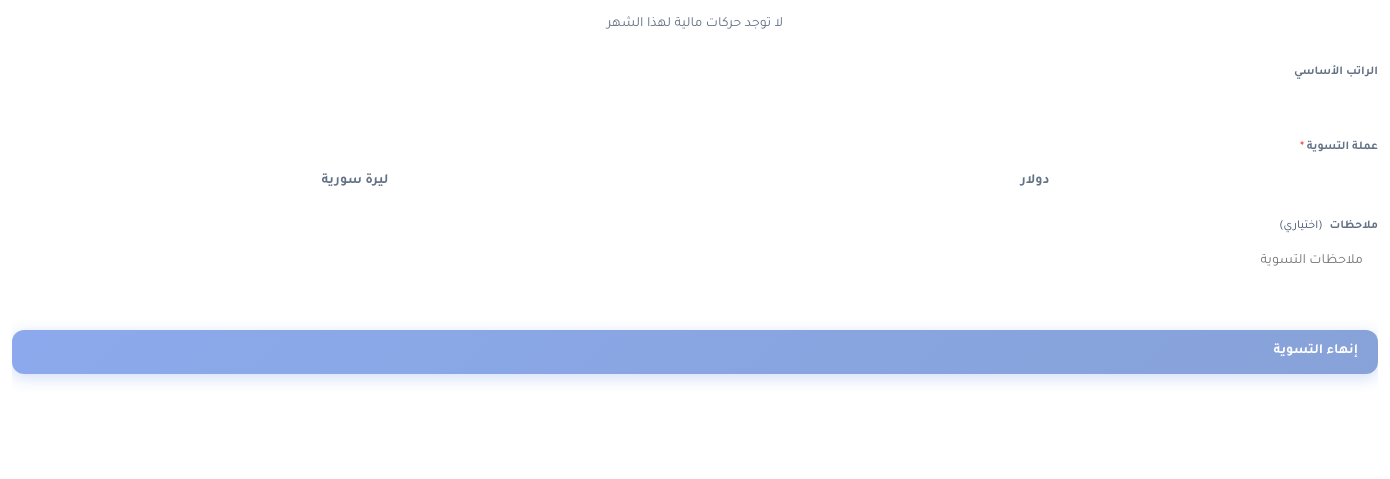
Test: SettlementDraftView › keeps the finalize button disabled when SYP is selected without a rate, and enables it once a rate is entered
Click the button with test id "currency-syp": (355, 182) [17, 165, 693, 198]
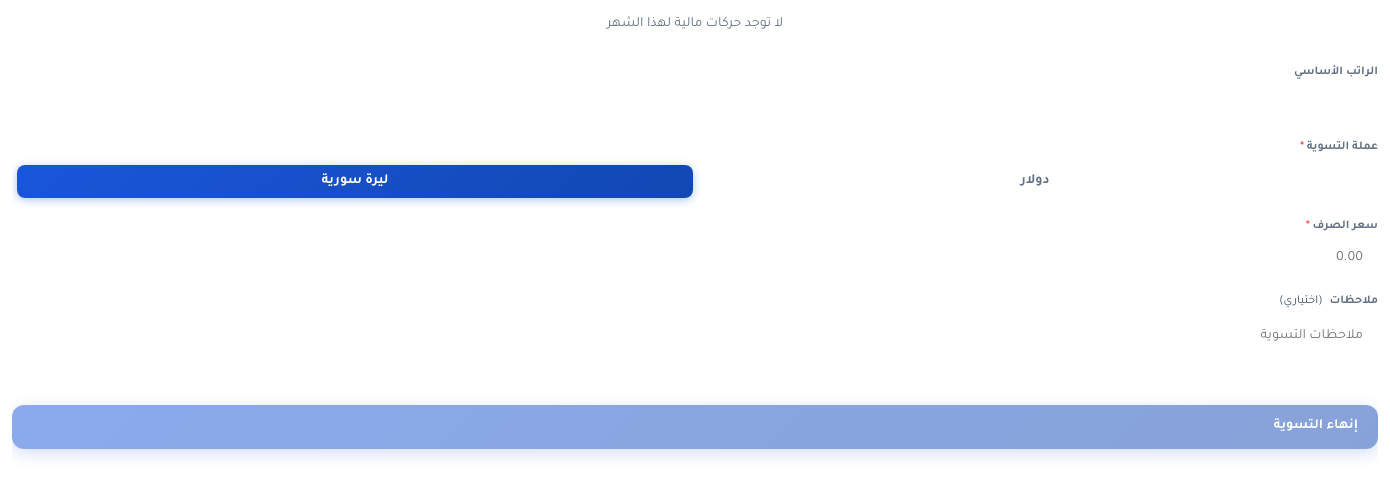
Expected: the button with test id "finalize-button" is disabled, [12, 405, 1378, 449]
Now the number field with test id "settlement-rate-input" is shown
In the number field with test id "settlement-rate-input": (695, 258) [12, 239, 1378, 278], type "15000"
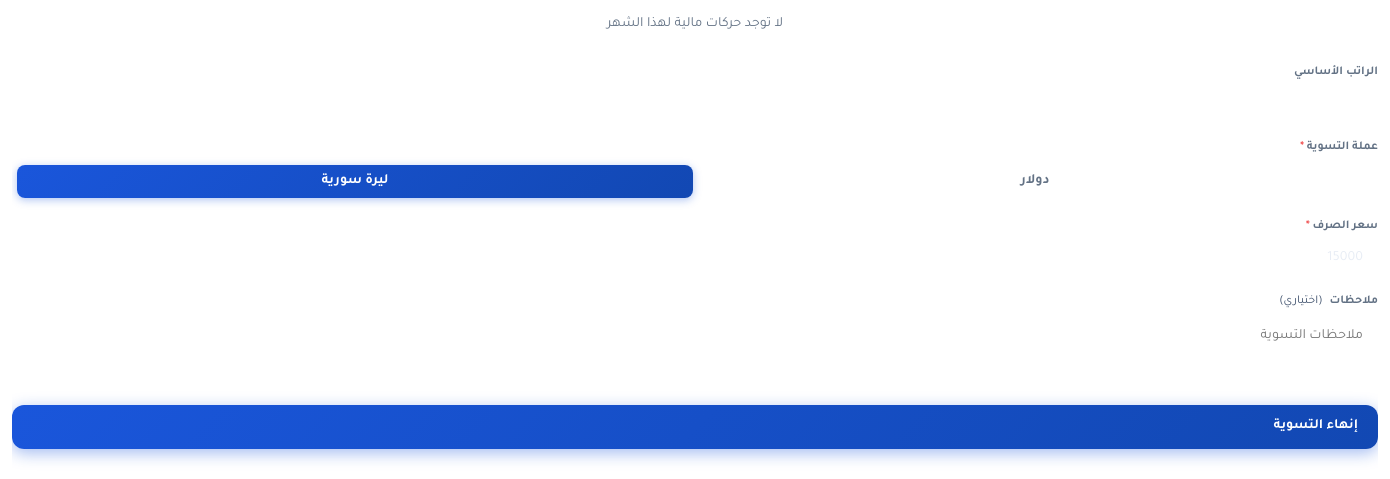
Now the button with test id "finalize-button" is enabled, box [12, 405, 1378, 449]
